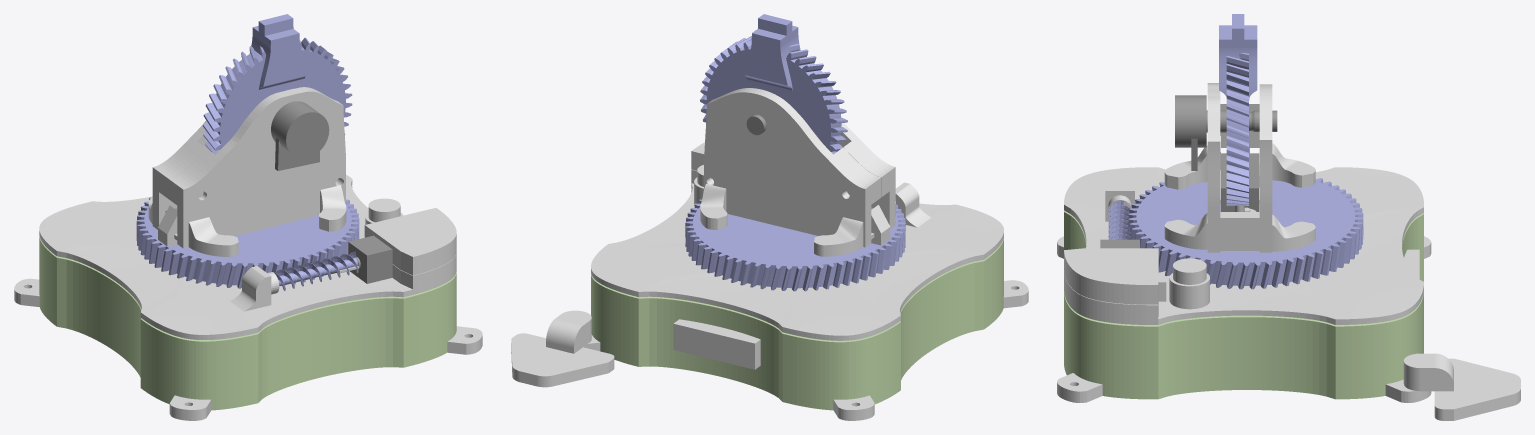
File: manipulator_base.glb
3 views of the same model, side by side, from view 1: azimuth 30°, elevation 25°; view 2: azimuth 150°, elevation 25°; view 3: azimuth 270°, elevation 25° (orthographic). The views are drawn at different scales.
Visible parts, largest first — view 1: Куб.041, Куб.040, Куб.020, Gear.004, Gear.009, Куб.043, Потенциометр.004, Куб.060, Мотор.004, Worm Gear.005, Куб.024, Куб.033 (+10 smaller); view 2: Куб.041, Куб.040, Куб.021, Gear.004, Gear.009, Куб.034, Куб.060, Куб.039, Куб.029, Куб.020, Куб.031, Куб.033 (+5 smaller); view 3: Куб.041, Куб.040, Gear.004, Куб.034, Куб.043, Gear.009, Потенциометр.004, Куб.021, Куб.020, Куб.060, Куб.042, Куб.029 (+11 smaller).
Part boxes in pixels (bbox=[...]): Куб.041: bbox=[39, 185, 456, 410]; Куб.040: bbox=[39, 174, 456, 339]; Куб.020: bbox=[177, 87, 345, 248]; Gear.004: bbox=[136, 197, 359, 288]; Gear.009: bbox=[203, 37, 352, 154]; Куб.043: bbox=[364, 208, 456, 275]; Потенциометр.004: bbox=[271, 101, 329, 170]; Куб.060: bbox=[249, 14, 307, 89]; Мотор.004: bbox=[330, 235, 392, 283]; Worm Gear.005: bbox=[270, 251, 358, 290]; Куб.024: bbox=[188, 217, 238, 256]; Куб.033: bbox=[230, 266, 271, 311]; Куб.041: bbox=[591, 190, 1003, 410]; Куб.040: bbox=[591, 183, 1003, 340]; Куб.021: bbox=[704, 88, 871, 247]; Gear.004: bbox=[685, 199, 905, 291]; Gear.009: bbox=[700, 36, 847, 154]; Куб.034: bbox=[511, 310, 614, 387]; Куб.060: bbox=[744, 14, 800, 92]; Куб.039: bbox=[673, 319, 760, 369]; Куб.029: bbox=[814, 217, 863, 256]; Куб.020: bbox=[836, 123, 895, 228]; Куб.031: bbox=[700, 183, 727, 229]; Куб.033: bbox=[895, 182, 930, 227]; Куб.041: bbox=[1064, 210, 1423, 399]; Куб.040: bbox=[1064, 167, 1423, 324]; Gear.004: bbox=[1128, 178, 1363, 289]; Куб.034: bbox=[1403, 353, 1520, 420]; Куб.043: bbox=[1064, 248, 1158, 304]; Gear.009: bbox=[1226, 53, 1248, 205]; Потенциометр.004: bbox=[1175, 95, 1277, 170]; Куб.021: bbox=[1259, 84, 1272, 252]; Куб.020: bbox=[1207, 83, 1220, 252]; Куб.060: bbox=[1219, 14, 1257, 100]; Куб.042: bbox=[1064, 272, 1158, 320]; Куб.029: bbox=[1272, 143, 1315, 187].
Size of the model in its own units: 131 by 109 by 146.
